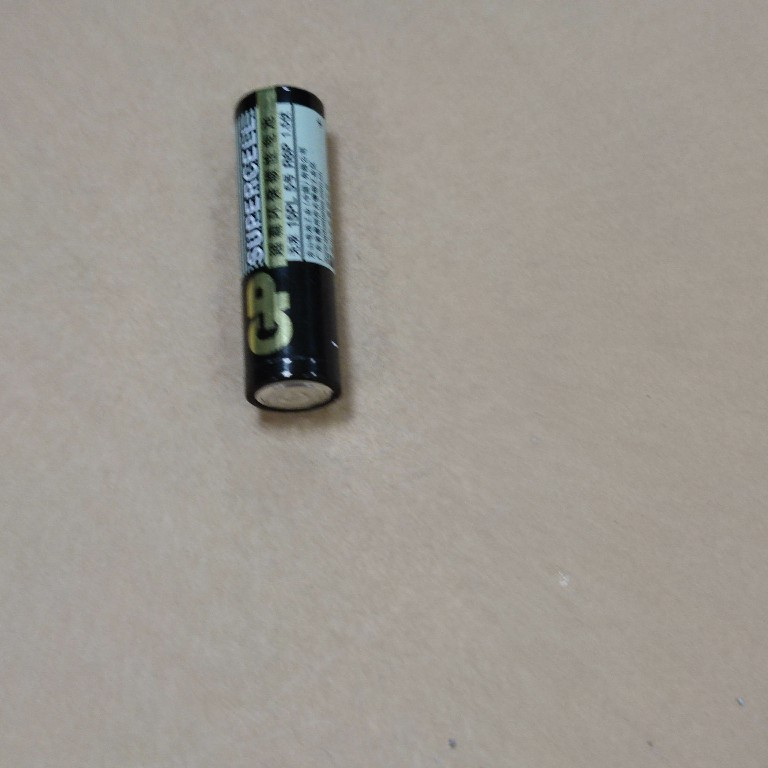charge: (226, 79, 363, 422)
